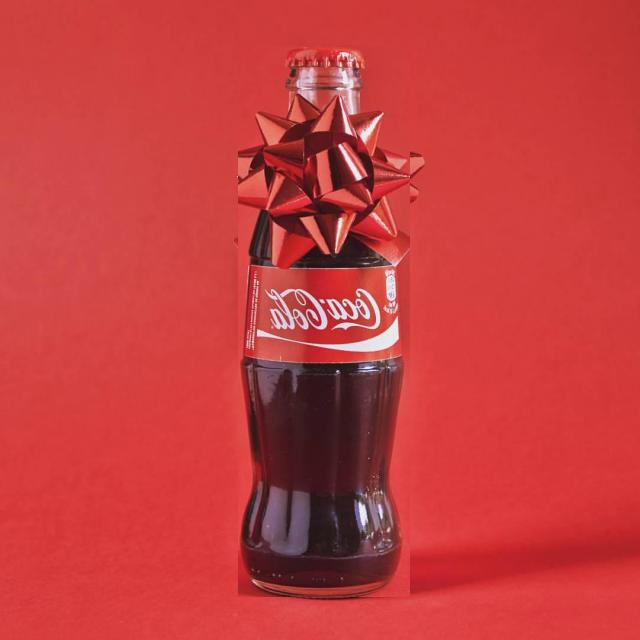coca-cola: (238, 45, 410, 597)
